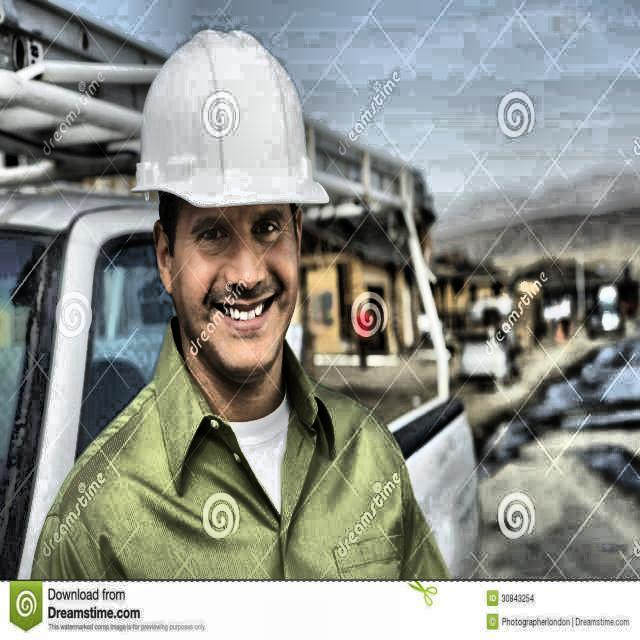person: (27, 32, 450, 582)
